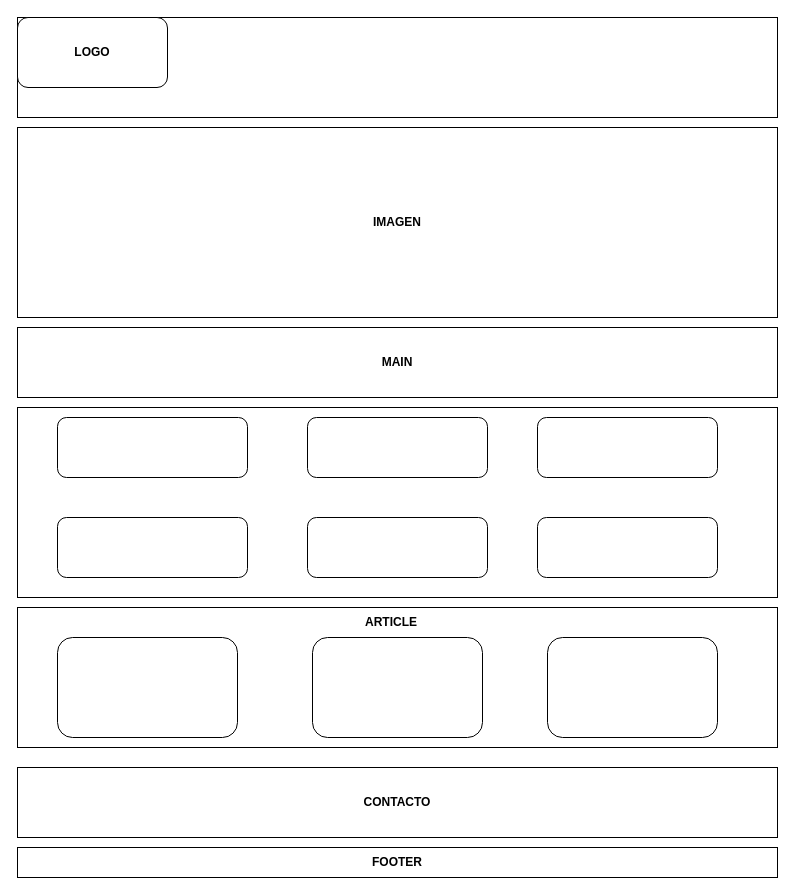
This 795x895 diagram has some shape labels left out. The shapes that lost their labels are listed below. From the top down, each one's box as (x1, y1, x2, y2) in pixels, then its label:
(16, 16, 778, 118): NAV
(16, 406, 778, 598): SECTION
